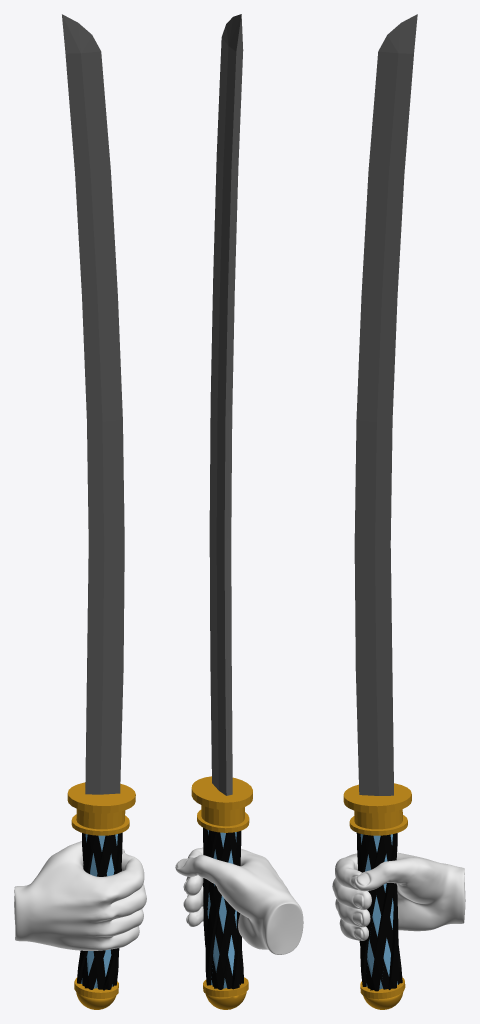
File: правый кулак с катаной малыш2.fbx
3 views of the same model, side by side, from view 1: azimuth 90°, elevation 25°; view 2: azimuth 210°, elevation 25°; view 3: azimuth 270°, elevation 25° (orthographic).
Parts seen in each view (by area): view 1: правая рука; view 2: правая рука; view 3: правая рука.
Part boxes in pixels (x1=…): правая рука: x1=14, y1=14, x2=146, y2=1009; правая рука: x1=175, y1=14, x2=303, y2=1009; правая рука: x1=332, y1=14, x2=465, y2=1009.
Bounding box in the file's own units: 16.58 × 185 × 22.41.
